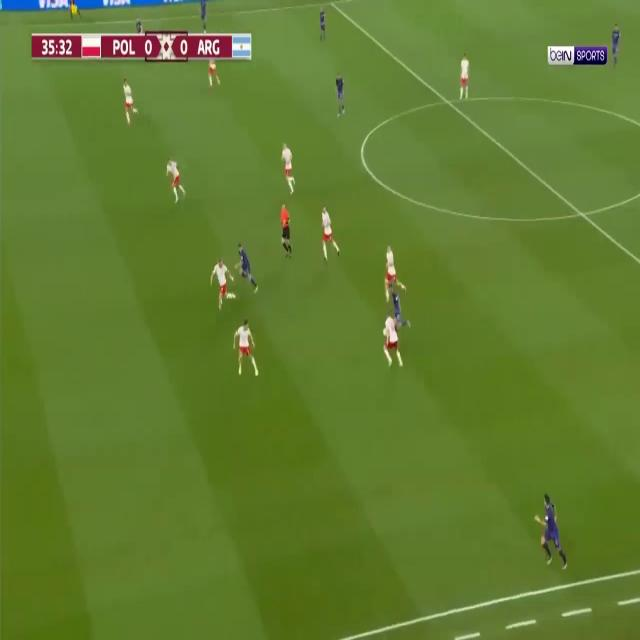ball: (383, 325, 388, 338)
team1: (534, 491, 570, 572), (235, 240, 260, 293), (390, 287, 412, 332), (609, 22, 622, 68), (335, 70, 347, 118), (318, 6, 328, 44), (199, 0, 208, 36), (135, 15, 144, 35)
team2: (210, 254, 238, 310), (233, 319, 260, 377), (384, 243, 408, 301), (321, 204, 341, 263), (384, 311, 404, 368), (165, 156, 188, 204), (281, 142, 298, 196), (122, 76, 140, 126), (459, 50, 471, 100), (207, 60, 223, 90)
